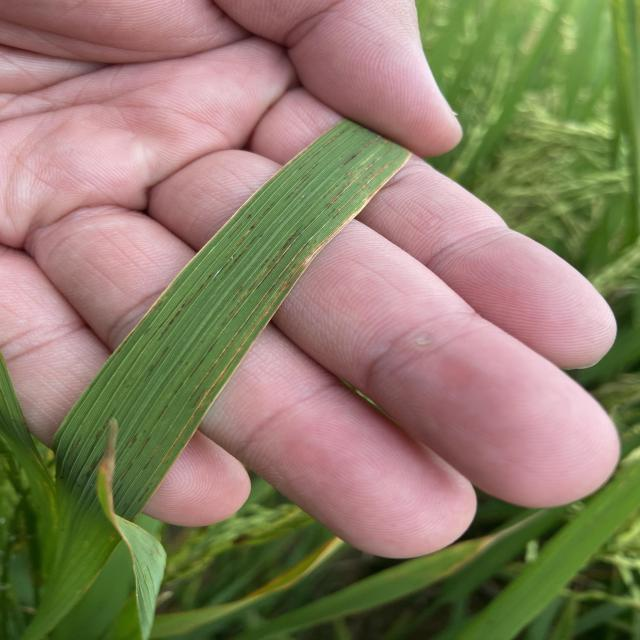Dom soc vi khuan: (227, 231, 297, 317), (227, 244, 292, 322), (224, 204, 274, 256), (337, 164, 389, 213), (325, 163, 374, 209), (298, 127, 349, 168), (338, 134, 382, 169)
